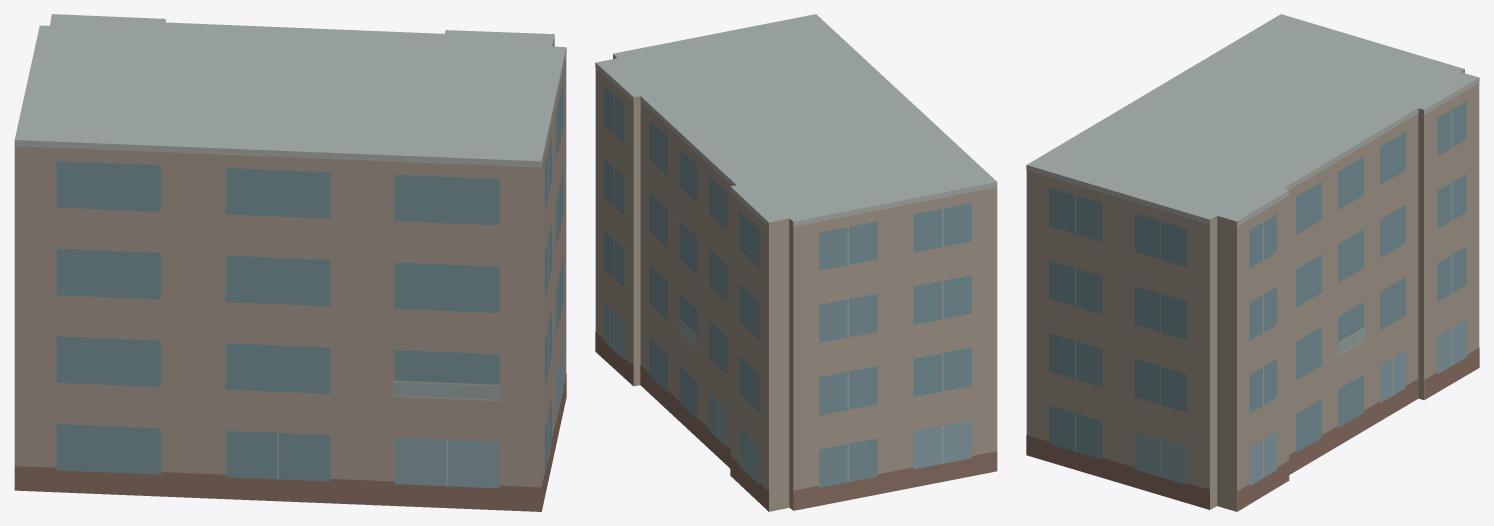
The model's file is survey-upis-32744578.glb.
3 views of the same model, side by side, from view 1: azimuth 30°, elevation 25°; view 2: azimuth 150°, elevation 25°; view 3: azimuth 270°, elevation 25° (orthographic). The views are drawn at different scales.
Parts seen in each view (by area): view 1: survey-upis-32744578.tmp; view 2: survey-upis-32744578.tmp; view 3: survey-upis-32744578.tmp.
Part boxes in pixels (x1,y1,x2,y2): survey-upis-32744578.tmp: (14, 14, 566, 511); survey-upis-32744578.tmp: (595, 14, 997, 511); survey-upis-32744578.tmp: (1026, 14, 1479, 511).
Bounding box in the file's own units: 20.94 × 13.65 × 19.31.
